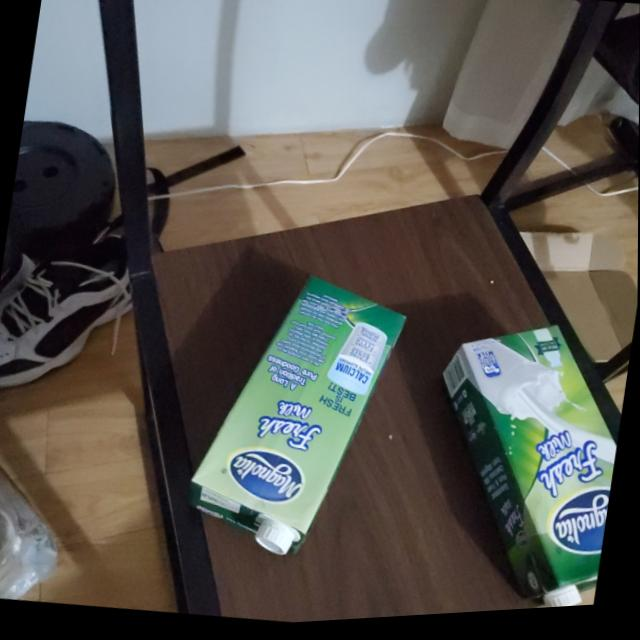milk: (179, 257, 413, 575), (412, 307, 635, 621)
